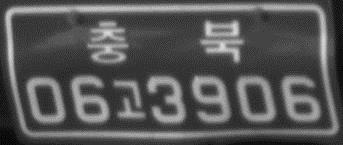0: (234, 70, 278, 126), (25, 71, 67, 125)
3: (147, 73, 189, 125)
6: (278, 71, 324, 128), (69, 72, 110, 128)
9: (190, 74, 234, 128)
고: (107, 78, 146, 120)
충북_D: (88, 18, 246, 72)
